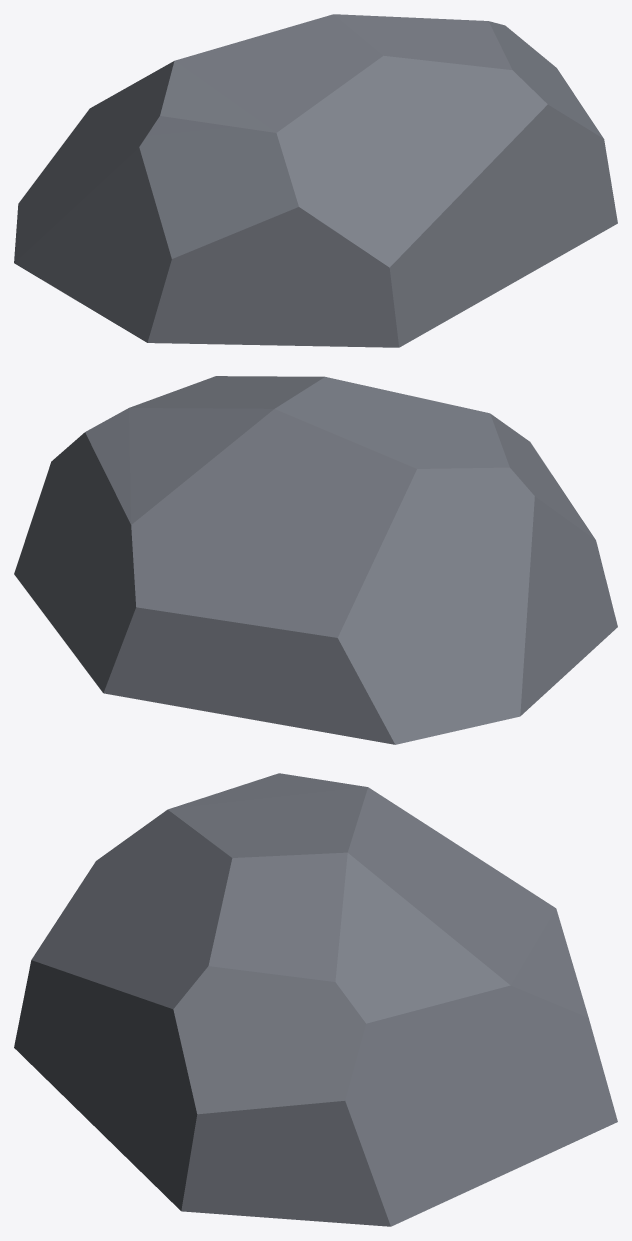
Rendered from Rock_Round_m_11.fbx.
The picture shows the model from 3 angles, top to bottom: view 1: azimuth 30°, elevation 25°; view 2: azimuth 150°, elevation 25°; view 3: azimuth 270°, elevation 25°; orthographic projection. The views are drawn at different scales.
Parts seen in each view (by area): view 1: Rock_Round_m_11; view 2: Rock_Round_m_11; view 3: Rock_Round_m_11.
Boxes of the visible parts, x1,y1,x2,y2 form: Rock_Round_m_11: (14,14,617,347); Rock_Round_m_11: (14,376,617,744); Rock_Round_m_11: (14,773,617,1226).
Size of the model in its own units: 137 by 52.4 by 119.
